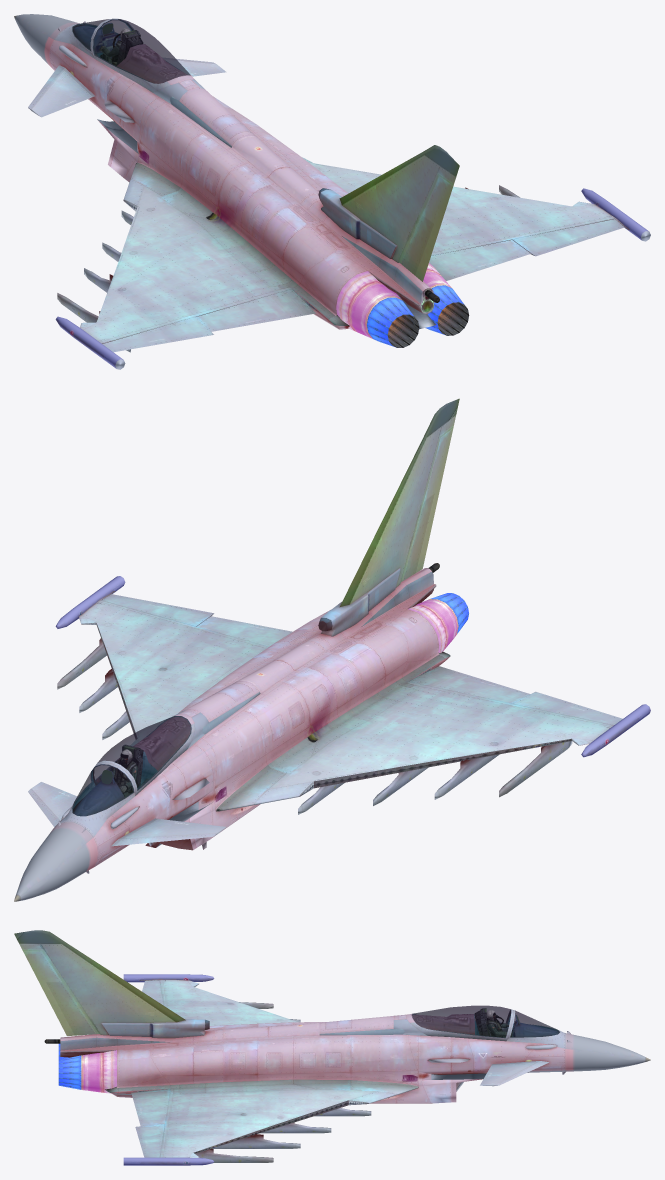
3 views of the same model, one above another, from view 1: azimuth 30°, elevation 25°; view 2: azimuth 150°, elevation 25°; view 3: azimuth 270°, elevation 25° (orthographic). The views are drawn at different scales.
Parts seen in each view (by area): view 1: Eurofighter-2000_LOD0, Eurofighter-2000_Glass01, Eurofighter-2000_RudderL01, Eurofighter-2000_ElevatorL01, Eurofighter-2000_Canopy01, Eurofighter-2000_BrakeL01, Eurofighter-2000_ElevatorR01, Eurofighter-2000_EngineL01, Eurofighter-2000_CanardL01, Eurofighter-2000_AileronR01, Eurofighter-2000_AileronL01, Eurofighter-2000_EngineR01 (+1 smaller); view 2: Eurofighter-2000_LOD0, Eurofighter-2000_Glass01, Eurofighter-2000_Canopy01, Eurofighter-2000_RudderL01, Eurofighter-2000_ElevatorL01, Eurofighter-2000_CanardL01, Eurofighter-2000_BrakeL01, Eurofighter-2000_ElevatorR01, Eurofighter-2000_AileronR01, Eurofighter-2000_AileronL01, Eurofighter-2000_CanardR01; view 3: Eurofighter-2000_LOD0, Eurofighter-2000_Glass01, Eurofighter-2000_RudderL01, Eurofighter-2000_Canopy01, Eurofighter-2000_BrakeL01, Eurofighter-2000_ElevatorR01, Eurofighter-2000_CanardR01, Eurofighter-2000_AileronR01, Eurofighter-2000_EngineR01, Eurofighter-2000_Pilot01.
Part boxes in pixels (<box>): Eurofighter-2000_LOD0: <box>14,14,650,369</box>; Eurofighter-2000_Glass01: <box>72,19,190,83</box>; Eurofighter-2000_RudderL01: <box>398,167,455,281</box>; Eurofighter-2000_ElevatorL01: <box>197,289,315,331</box>; Eurofighter-2000_Canopy01: <box>91,19,199,92</box>; Eurofighter-2000_BrakeL01: <box>170,88,257,147</box>; Eurofighter-2000_ElevatorR01: <box>429,240,530,280</box>; Eurofighter-2000_EngineL01: <box>367,297,419,347</box>; Eurofighter-2000_CanardL01: <box>28,65,94,117</box>; Eurofighter-2000_AileronR01: <box>512,215,624,256</box>; Eurofighter-2000_AileronL01: <box>98,316,213,352</box>; Eurofighter-2000_EngineR01: <box>425,285,469,335</box>; Eurofighter-2000_LOD0: <box>14,398,650,901</box>; Eurofighter-2000_Glass01: <box>72,716,191,815</box>; Eurofighter-2000_Canopy01: <box>93,709,199,795</box>; Eurofighter-2000_RudderL01: <box>401,416,455,581</box>; Eurofighter-2000_ElevatorL01: <box>408,666,530,703</box>; Eurofighter-2000_CanardL01: <box>111,818,226,846</box>; Eurofighter-2000_BrakeL01: <box>184,681,260,734</box>; Eurofighter-2000_ElevatorR01: <box>197,616,292,646</box>; Eurofighter-2000_AileronR01: <box>97,594,213,626</box>; Eurofighter-2000_AileronL01: <box>512,691,622,728</box>; Eurofighter-2000_CanardR01: <box>28,782,77,826</box>; Eurofighter-2000_LOD0: <box>14,930,650,1165</box>; Eurofighter-2000_Glass01: <box>412,1005,559,1037</box>; Eurofighter-2000_RudderL01: <box>19,944,99,1035</box>; Eurofighter-2000_Canopy01: <box>393,1009,513,1041</box>; Eurofighter-2000_BrakeL01: <box>319,1016,404,1035</box>; Eurofighter-2000_ElevatorR01: <box>131,1089,170,1126</box>; Eurofighter-2000_CanardR01: <box>480,1061,548,1086</box>; Eurofighter-2000_AileronR01: <box>135,1124,164,1157</box>; Eurofighter-2000_EngineR01: <box>58,1055,81,1089</box>; Eurofighter-2000_Pilot01: <box>486,1010,512,1037</box>.
Size of the model in its own units: 1085 by 460 by 1563.
